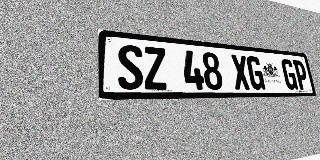4: (181, 50, 205, 90)
8: (201, 52, 223, 90)
G: (246, 56, 265, 90), (280, 59, 298, 90)
P: (292, 60, 309, 90)
S: (117, 44, 144, 90)
X: (230, 54, 251, 90)
Z: (142, 46, 168, 90)
